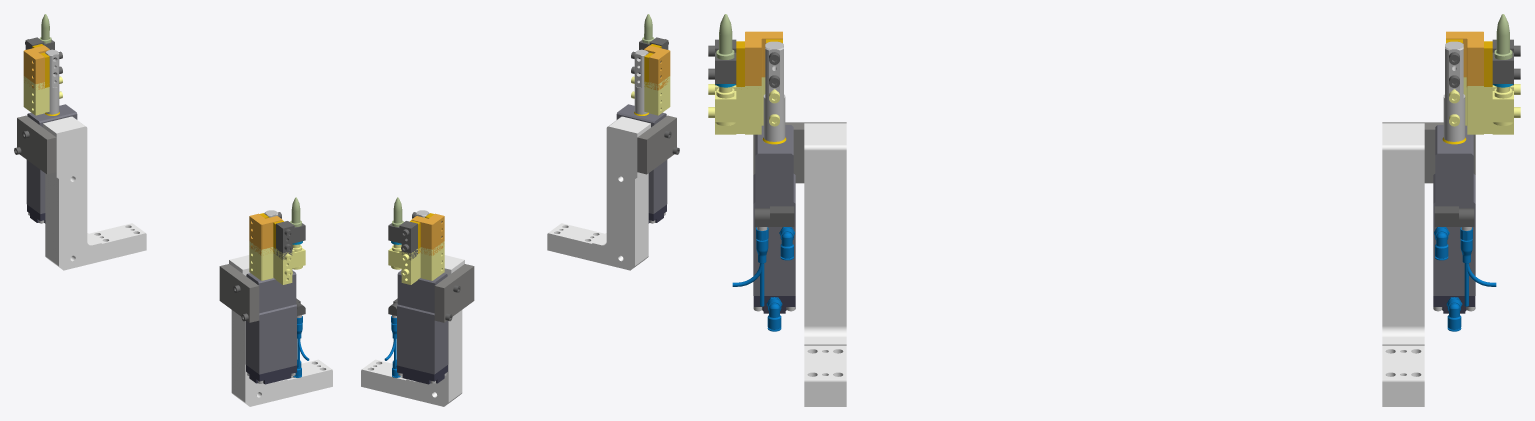
3 renders of one model, left to right at view 1: azimuth 30°, elevation 25°; view 2: azimuth 150°, elevation 25°; view 3: azimuth 270°, elevation 25°, orthographic. The views are drawn at different scales.
Visible parts, largest first — view 1: Ext_01_solid (×2), Body (×2), ALB410M (×4), Ext_02, Ext_02_RC, APR338M (×2), Piston; view 2: Ext_01_solid (×2), Body (×2), ALB410M (×4), Ext_02_RC, Ext_02, APR338M (×2), Piston; view 3: Ext_01_solid (×2), Body (×2), ALB410M (×4), Piston (×2), APR338M (×2), Ext_02_RC, Ext_02.
Boxes of the visible parts, x1=… form: Ext_01_solid (×2): x1=43, y1=116, x2=332, y2=406; Body (×2): x1=26, y1=104, x2=305, y2=384; ALB410M (×4): x1=23, y1=45, x2=282, y2=280; Ext_02: x1=219, y1=264, x2=259, y2=322; Ext_02_RC: x1=17, y1=115, x2=56, y2=174; APR338M (×2): x1=276, y1=221, x2=305, y2=284; Piston: x1=45, y1=49, x2=59, y2=114; Ext_01_solid (×2): x1=361, y1=116, x2=650, y2=406; Body (×2): x1=388, y1=104, x2=667, y2=384; ALB410M (×4): x1=411, y1=45, x2=670, y2=280; Ext_02_RC: x1=434, y1=264, x2=474, y2=322; Ext_02: x1=637, y1=115, x2=676, y2=174; APR338M (×2): x1=388, y1=221, x2=417, y2=284; Piston: x1=634, y1=49, x2=648, y2=114; Ext_01_solid (×2): x1=804, y1=123, x2=1424, y2=406; Body (×2): x1=753, y1=125, x2=1475, y2=313; ALB410M (×4): x1=745, y1=31, x2=1483, y2=134; Piston (×2): x1=763, y1=41, x2=1465, y2=141; APR338M (×2): x1=715, y1=85, x2=1513, y2=134; Ext_02_RC: x1=1382, y1=122, x2=1475, y2=183; Ext_02: x1=753, y1=122, x2=846, y2=183.
Bounding box in the file's own units: 0.218 × 0.4496 × 0.957.
